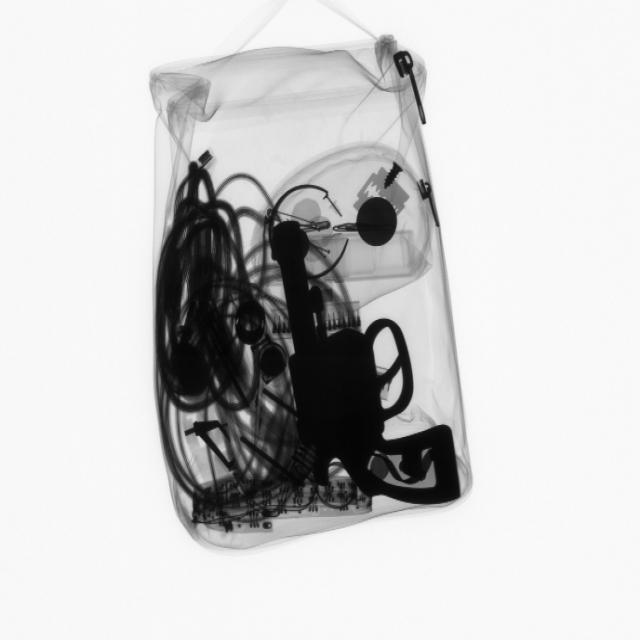BLADE: (359, 162, 413, 226)
GUN: (274, 230, 467, 513)
